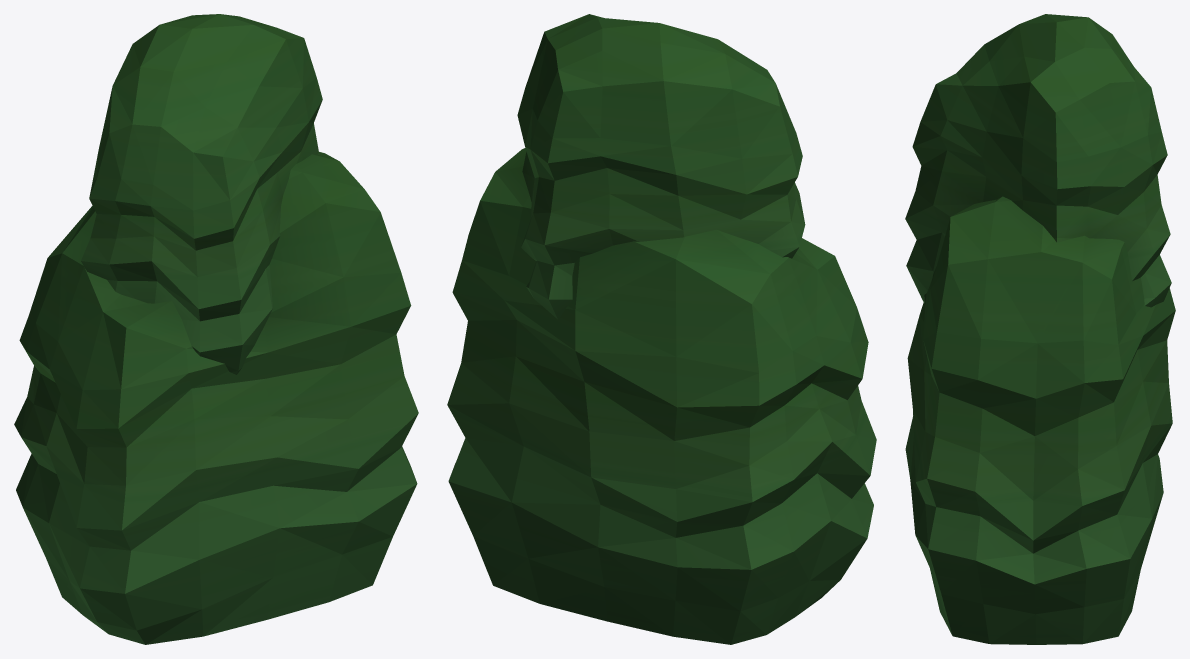
The model's file is bush_tall.glb.
The picture shows the model from 3 angles, left to right: view 1: azimuth 30°, elevation 25°; view 2: azimuth 150°, elevation 25°; view 3: azimuth 270°, elevation 25°; orthographic projection. The views are drawn at different scales.
Visible parts, largest first — view 1: Bush_1_1_A; view 2: Bush_1_1_A; view 3: Bush_1_1_A.
Boxes of the visible parts, x1=… form: Bush_1_1_A: x1=14, y1=14, x2=418, y2=644; Bush_1_1_A: x1=447, y1=14, x2=876, y2=644; Bush_1_1_A: x1=905, y1=14, x2=1175, y2=644.
Bounding box in the file's own units: 0.786 × 1.2 × 0.534.
1 material, 1 textured.
